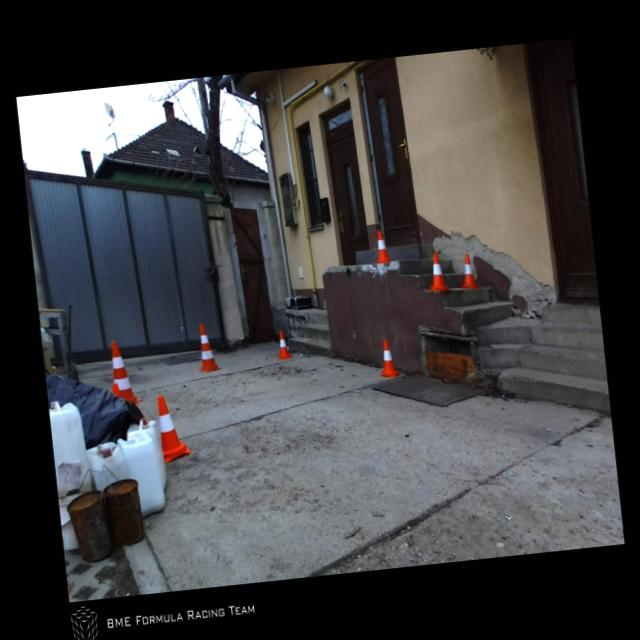large_orange_cone: (109, 338, 143, 406), (194, 322, 220, 372)
orange_cone: (156, 393, 192, 463), (376, 338, 400, 378), (424, 252, 448, 292), (458, 253, 478, 290), (372, 228, 392, 263), (276, 329, 292, 358)
